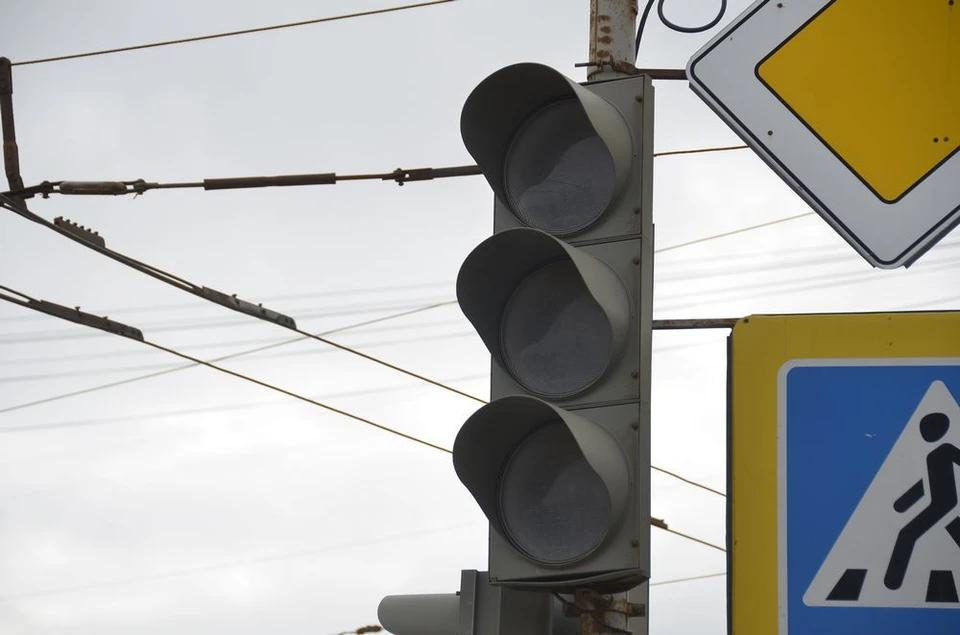obstructed_road_sign: (729, 312, 959, 634), (687, 0, 959, 268)
off traffic light: (453, 63, 651, 587)
